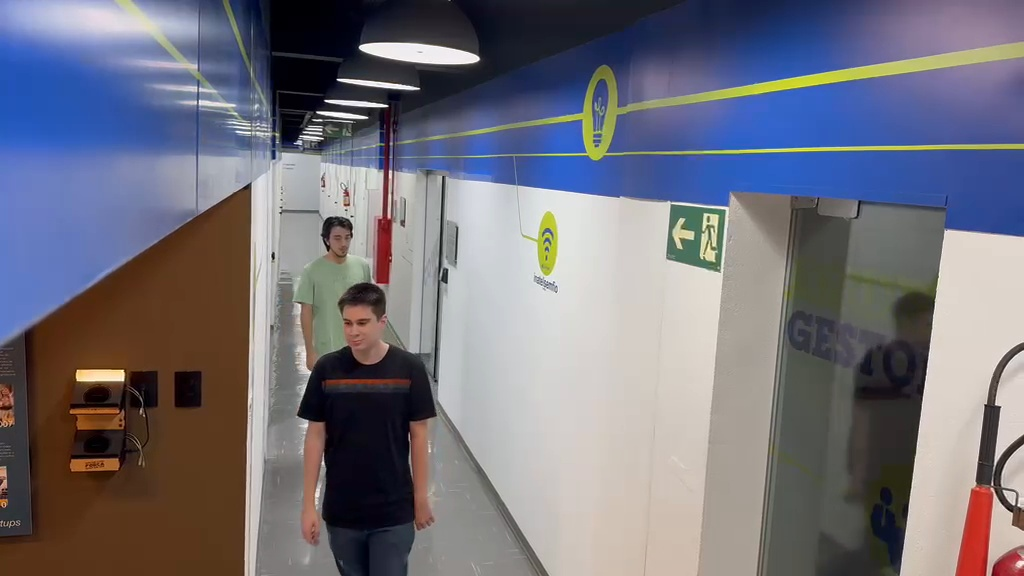person: (297, 280, 437, 573), (293, 215, 372, 373)
